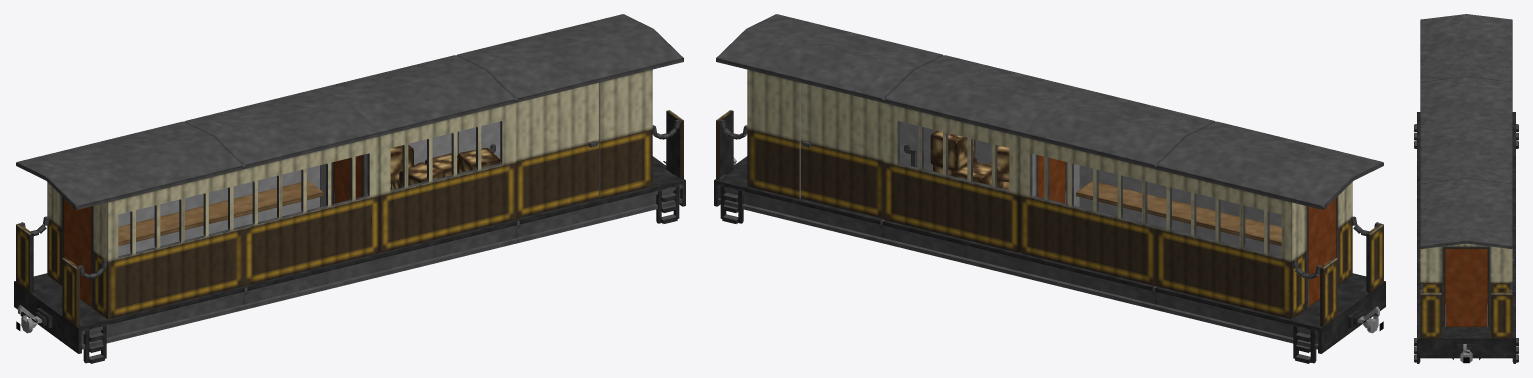
The model's file is kitsune_dragon_combine.obj.
3 views of the same model, side by side, from view 1: azimuth 30°, elevation 25°; view 2: azimuth 150°, elevation 25°; view 3: azimuth 270°, elevation 25° (orthographic). The views are drawn at different scales.
Visible parts, largest first — view 1: SHELL_WOOD_roof_Cube.002, SHELL_WOOD_roof.001_Cube.021, SHELL_WOOD.002_Cube.031, SHELL_WOOD.004_Cube.006, SHELL_WOOD.001_Cube.045, DOOR_12_EXTERNAL_TL_-1.25_X_Cube.067, SHELL_WOOD_Cube.032, SHELL_WOOD.003_Cube.044, SHELL_WOOD_INTERIOR.001_Cube.062, FRAME_cab_Cube.056, FRAME.002_Cube.058, FRAME.003_Cube.057 (+15 smaller); view 2: SHELL_WOOD_roof_Cube.002, SHELL_WOOD_roof.001_Cube.021, SHELL_WOOD.002_Cube.031, SHELL_WOOD.004_Cube.006, SHELL_WOOD.001_Cube.045, DOOR_11_EXTERNAL_TL_-1.25_X_Cube.064, SHELL_WOOD_Cube.032, SHELL_WOOD.003_Cube.044, SHELL_WOOD_INTERIOR.001_Cube.062, FRAME_cab_Cube.056, FRAME.002_Cube.058, FRAME.003_Cube.057 (+13 smaller); view 3: SHELL_WOOD_roof_Cube.002, SHELL_WOOD_roof.001_Cube.021, SHELL_WOOD.008_Cube.073, FRAME_cab.001_Cube.046, DOOR_4_Cube.041, DOOR_3_Cube.048, SHELL_WOOD_cab_roof.001_Cube.071, SHELL_WOOD_cab_roof_Cube.075, FRAME.001_Cube.069, FRAME.002_Cube.058, FRAME_Cube.070, FRAME.003_Cube.057 (+2 smaller).
Part boxes in pixels (left/top/right/bottom): SHELL_WOOD_roof_Cube.002: left=49, top=88, right=380, bottom=201; SHELL_WOOD_roof.001_Cube.021: left=320, top=22, right=650, bottom=135; SHELL_WOOD.002_Cube.031: left=380, top=103, right=516, bottom=252; SHELL_WOOD.004_Cube.006: left=242, top=136, right=380, bottom=285; SHELL_WOOD.001_Cube.045: left=109, top=169, right=243, bottom=318; DOOR_12_EXTERNAL_TL_-1.25_X_Cube.067: left=516, top=82, right=599, bottom=218; SHELL_WOOD_Cube.032: left=599, top=70, right=650, bottom=199; SHELL_WOOD.003_Cube.044: left=16, top=182, right=109, bottom=326; SHELL_WOOD_INTERIOR.001_Cube.062: left=185, top=153, right=369, bottom=239; FRAME_cab_Cube.056: left=14, top=273, right=111, bottom=363; FRAME.002_Cube.058: left=516, top=187, right=652, bottom=242; FRAME.003_Cube.057: left=379, top=219, right=518, bottom=276; SHELL_WOOD_roof_Cube.002: left=1019, top=88, right=1350, bottom=201; SHELL_WOOD_roof.001_Cube.021: left=749, top=22, right=1079, bottom=135; SHELL_WOOD.002_Cube.031: left=883, top=103, right=1019, bottom=252; SHELL_WOOD.004_Cube.006: left=1019, top=136, right=1157, bottom=285; SHELL_WOOD.001_Cube.045: left=1156, top=169, right=1290, bottom=318; DOOR_11_EXTERNAL_TL_-1.25_X_Cube.064: left=800, top=82, right=883, bottom=218; SHELL_WOOD_Cube.032: left=749, top=70, right=800, bottom=199; SHELL_WOOD.003_Cube.044: left=1290, top=182, right=1383, bottom=326; SHELL_WOOD_INTERIOR.001_Cube.062: left=1030, top=153, right=1214, bottom=239; FRAME_cab_Cube.056: left=1288, top=273, right=1385, bottom=363; FRAME.002_Cube.058: left=747, top=187, right=883, bottom=242; FRAME.003_Cube.057: left=881, top=219, right=1020, bottom=276; SHELL_WOOD_roof_Cube.002: left=1420, top=26, right=1512, bottom=132; SHELL_WOOD_roof.001_Cube.021: left=1420, top=127, right=1512, bottom=233; SHELL_WOOD.008_Cube.073: left=1420, top=243, right=1512, bottom=338; FRAME_cab.001_Cube.046: left=1414, top=326, right=1518, bottom=363; DOOR_4_Cube.041: left=1466, top=248, right=1487, bottom=326; DOOR_3_Cube.048: left=1445, top=248, right=1466, bottom=326; SHELL_WOOD_cab_roof.001_Cube.071: left=1420, top=228, right=1512, bottom=248; SHELL_WOOD_cab_roof_Cube.075: left=1420, top=14, right=1512, bottom=31; FRAME.001_Cube.069: left=1417, top=174, right=1515, bottom=225; FRAME.002_Cube.058: left=1417, top=276, right=1515, bottom=326; FRAME_Cube.070: left=1417, top=124, right=1515, bottom=174; FRAME.003_Cube.057: left=1417, top=225, right=1515, bottom=275.
Bounding box in the file's own units: 11.88 × 2.94 × 2.12.
5 materials, 5 textured.
